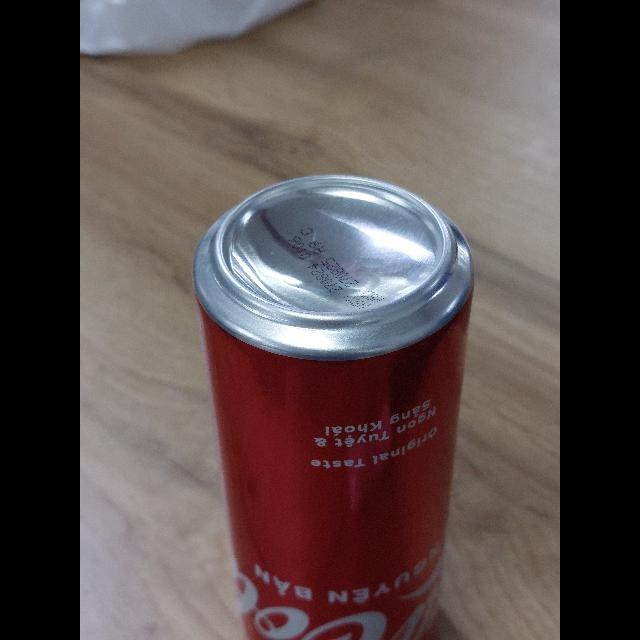coca_cola: (192, 174, 474, 640)
